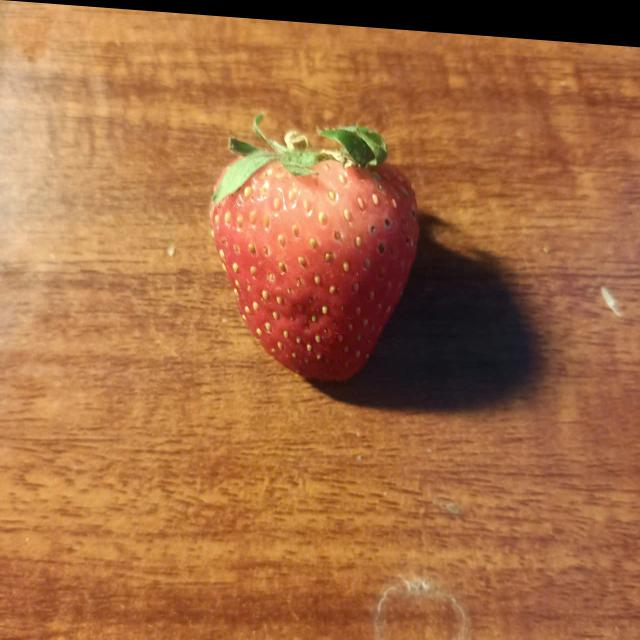DauTay: (204, 123, 422, 389)
